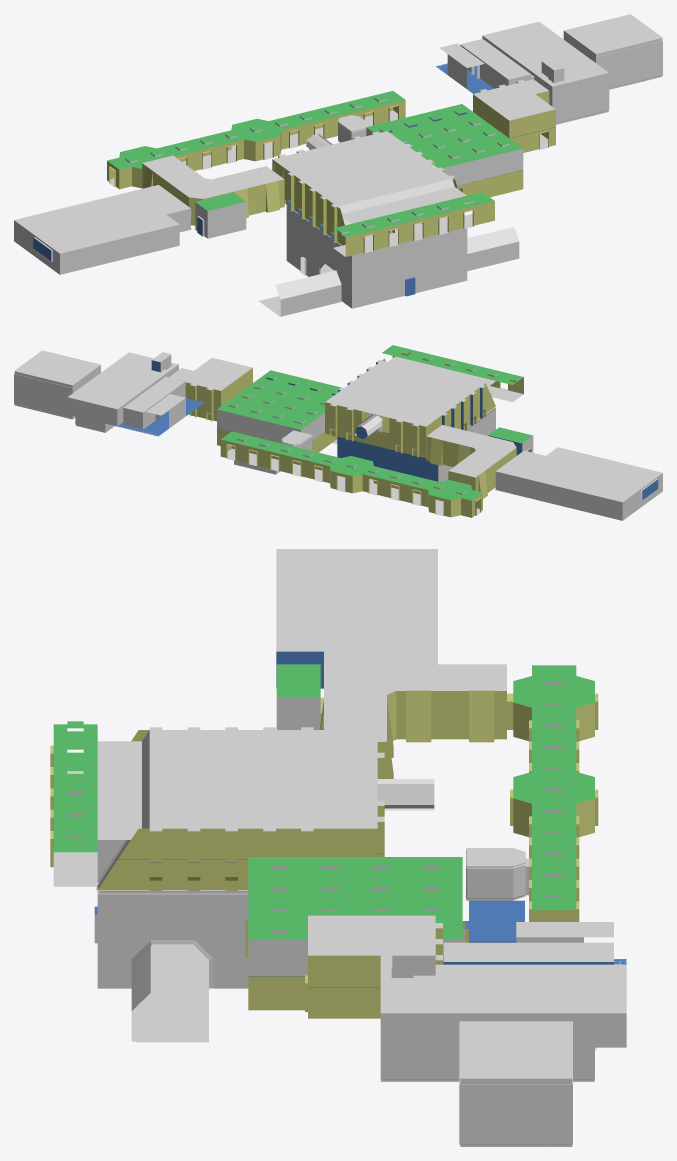
Rendered from Cont1_173_Intro.fbx.
3 views of the same model, one above another, from view 1: azimuth 30°, elevation 25°; view 2: azimuth 150°, elevation 25°; view 3: azimuth 270°, elevation 25° (orthographic). The views are drawn at different scales.
Visible parts, largest first — view 1: Cont1_Intro_BigRoom, Cont1_Intro_Cafe, Cont1_Intro_Chamber173, Cont1_Intro_HallwayCells, Cont1_Intro_Office, Cont1_Intro_FakeCells, Cont1_Intro_Before173, Cont1_Intro_PlayerCell; view 2: Cont1_Intro_BigRoom, Cont1_Intro_Cafe, Cont1_Intro_Chamber173, Cont1_Intro_HallwayCells, Cont1_Intro_Office, Cont1_Intro_Before173, Cont1_Intro_FakeCells, Cont1_Intro_PlayerCell; view 3: Cont1_Intro_BigRoom, Cont1_Intro_Chamber173, Cont1_Intro_Cafe, Cont1_Intro_Office, Cont1_Intro_HallwayCells, Cont1_Intro_Before173, Cont1_Intro_FakeCells, Cont1_Intro_PlayerCell.
Boxes of the visible parts, left/top/right/bottom form: Cont1_Intro_BigRoom: left=259, top=131, right=519, bottom=316; Cont1_Intro_Cafe: left=14, top=155, right=284, bottom=274; Cont1_Intro_Chamber173: left=436, top=14, right=662, bottom=124; Cont1_Intro_HallwayCells: left=107, top=91, right=405, bottom=189; Cont1_Intro_Office: left=366, top=104, right=523, bottom=203; Cont1_Intro_FakeCells: left=333, top=192, right=494, bottom=256; Cont1_Intro_Before173: left=473, top=79, right=555, bottom=152; Cont1_Intro_PlayerCell: left=338, top=115, right=371, bottom=142; Cont1_Intro_BigRoom: left=325, top=356, right=496, bottom=481; Cont1_Intro_Cafe: left=426, top=425, right=662, bottom=520; Cont1_Intro_Chamber173: left=14, top=350, right=204, bottom=436; Cont1_Intro_HallwayCells: left=220, top=431, right=482, bottom=517; Cont1_Intro_Office: left=217, top=370, right=340, bottom=474; Cont1_Intro_Before173: left=169, top=357, right=252, bottom=421; Cont1_Intro_FakeCells: left=382, top=345, right=523, bottom=402; Cont1_Intro_PlayerCell: left=281, top=430, right=312, bottom=450; Cont1_Intro_BigRoom: left=94, top=727, right=434, bottom=1042; Cont1_Intro_Chamber173: left=380, top=922, right=626, bottom=1146; Cont1_Intro_Cafe: left=276, top=549, right=509, bottom=778; Cont1_Intro_Office: left=245, top=857, right=524, bottom=1010; Cont1_Intro_HallwayCells: left=510, top=665, right=598, bottom=921; Cont1_Intro_Before173: left=305, top=915, right=442, bottom=1018; Cont1_Intro_FakeCells: left=50, top=721, right=97, bottom=886; Cont1_Intro_PlayerCell: left=466, top=848, right=528, bottom=900.
Size of the model in its own units: 135 by 21.13 by 58.47.
